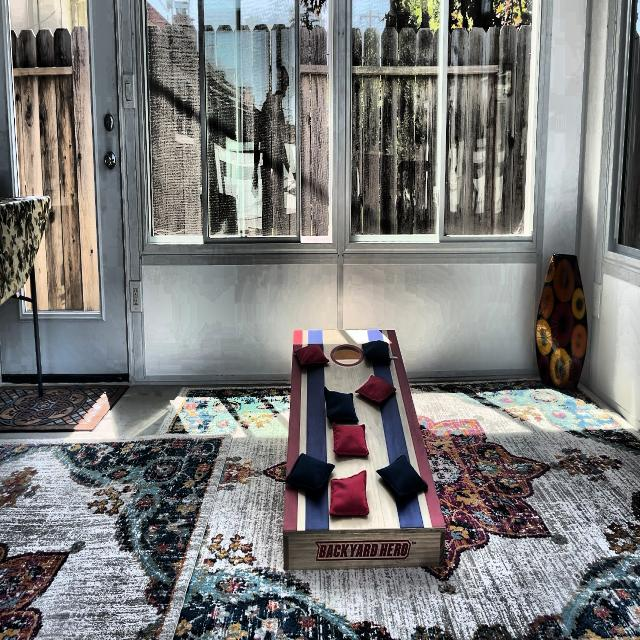blue-bean-bag: (376, 454, 428, 498), (286, 452, 335, 492), (324, 387, 357, 424), (362, 341, 390, 362)
board: (290, 330, 410, 532)
hole: (330, 343, 364, 367)
red-bean-bag: (330, 469, 370, 517), (332, 422, 368, 458), (356, 375, 396, 405), (294, 342, 329, 369)
